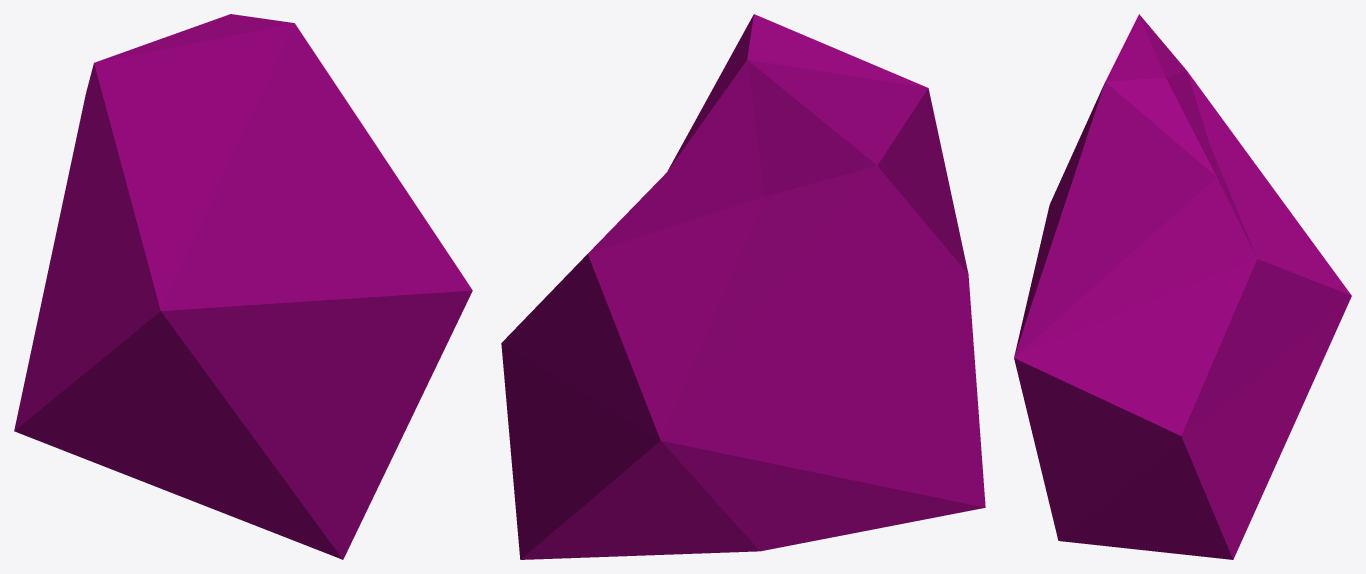
Rendered from Gem_10.glb.
The picture shows the model from 3 angles, left to right: view 1: azimuth 30°, elevation 25°; view 2: azimuth 150°, elevation 25°; view 3: azimuth 270°, elevation 25°; orthographic projection. The views are drawn at different scales.
Parts seen in each view (by area): view 1: Gem_10; view 2: Gem_10; view 3: Gem_10.
Boxes of the visible parts, box(x1,y1,x2,y2) form: Gem_10: box(14, 14, 472, 559); Gem_10: box(501, 14, 985, 559); Gem_10: box(1014, 14, 1351, 559).
Bounding box in the file's own units: 0.1052 × 0.1201 × 0.0817.
